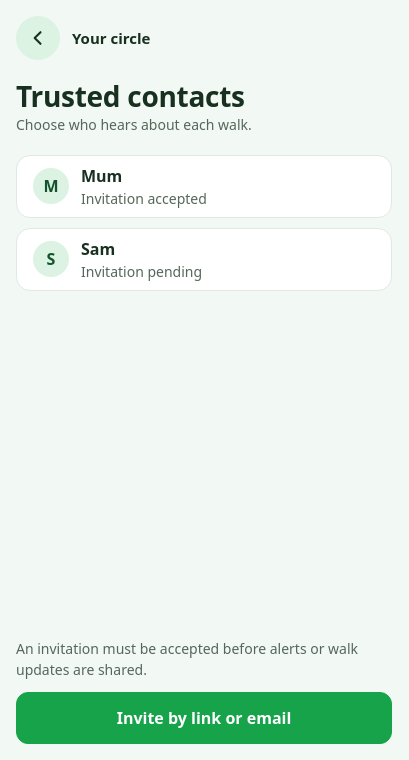
removing a contact asks first, then takes them off the list
Click the button "M Mum Invitation accepted" at (204, 186), box x1=17 y1=156 x2=391 y2=217
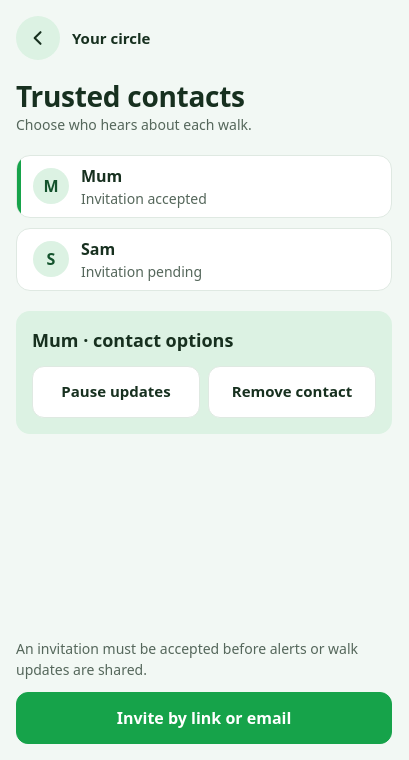
Click the button "Remove contact" at (292, 392), box x1=208 y1=366 x2=376 y2=418
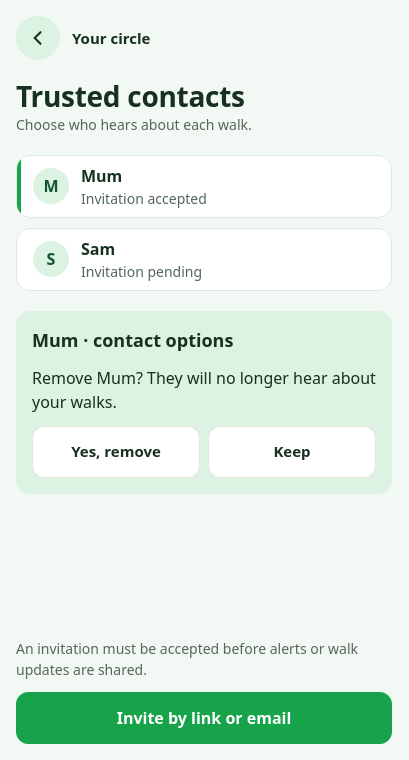
Now the text "Remove Mum? They will no longer hear about your walks." is shown, box x1=32 y1=366 x2=376 y2=414
Click the button "Yes, remove" at (116, 452), box x1=32 y1=426 x2=200 y2=478
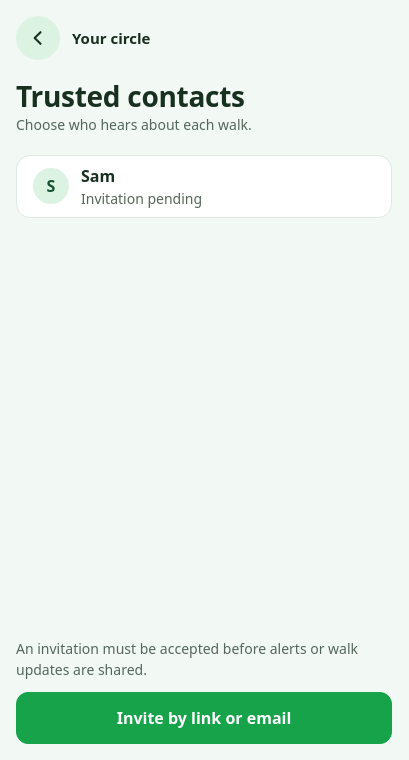
Now the button "Mum" is gone
